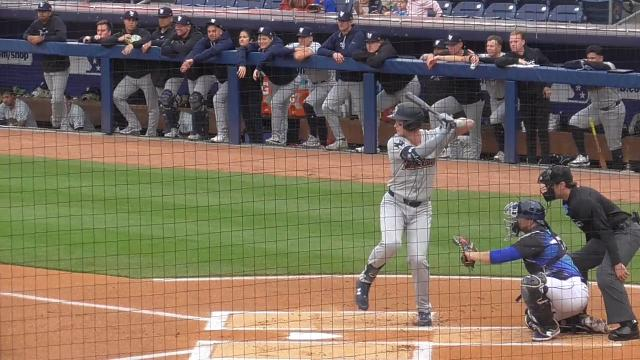bat: (406, 92, 440, 116)
